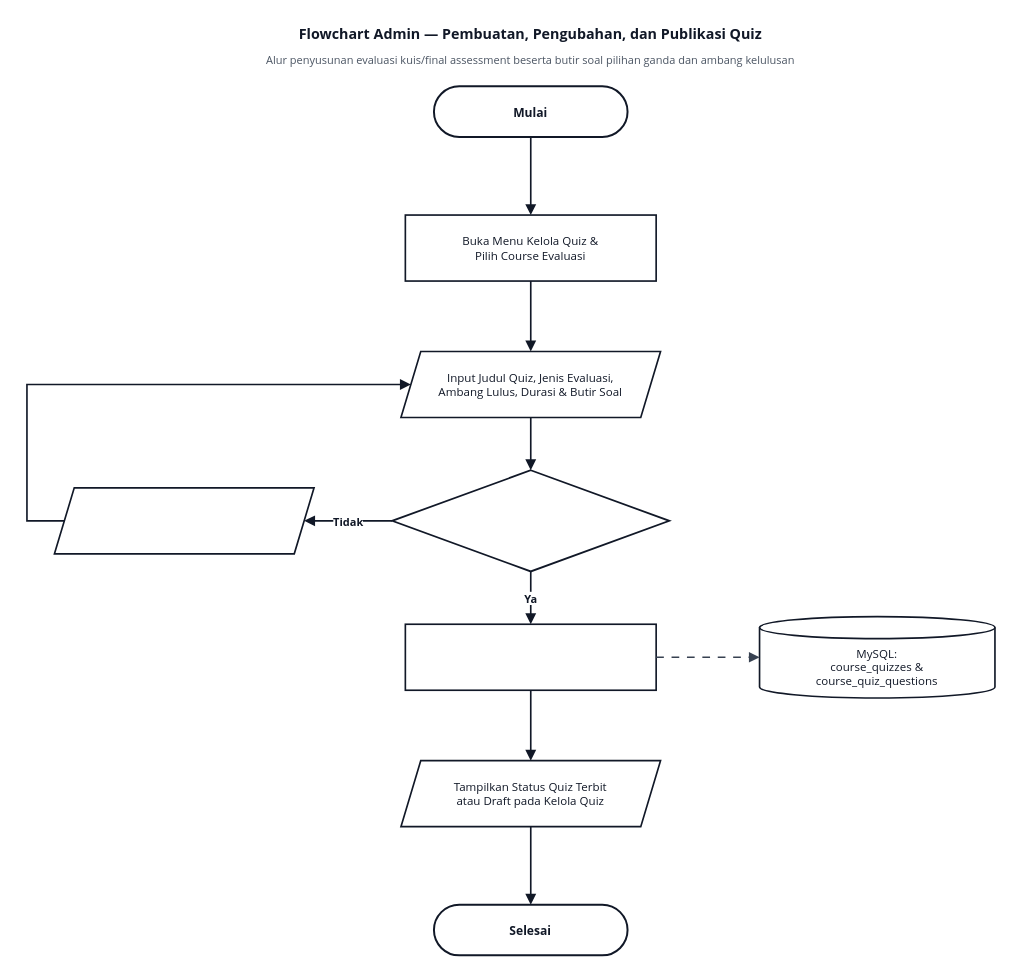
Image size: 1015x975. Some labels were removed from this diagram. The centre of each missing label's shape, as x and y in pixels:
"Setiap Soal Memiliki Opsi & Kunci Jawaban Valid?" goes at point 530,520.
"Simpan Konfigurasi Quiz, Butir Soal & Status Publikasi" goes at point 530,657.
"Tampilkan Peringatan Validasi Form Soal Pilihan Ganda" goes at point 183,520.
